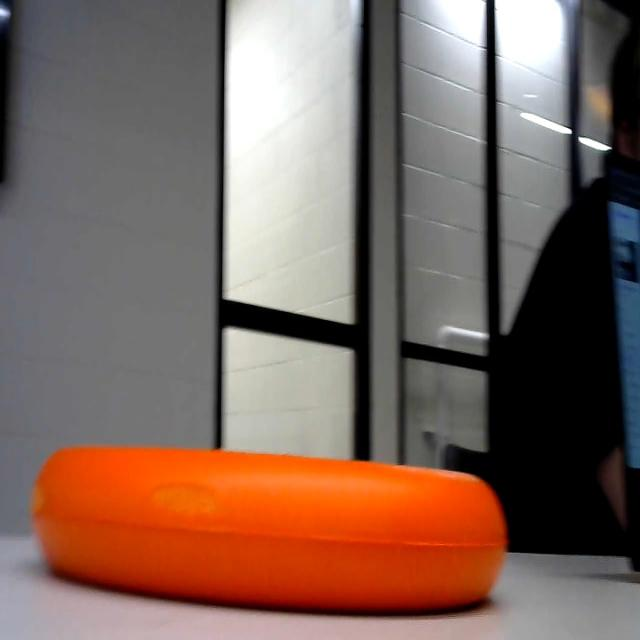note: (32, 438, 510, 616)
